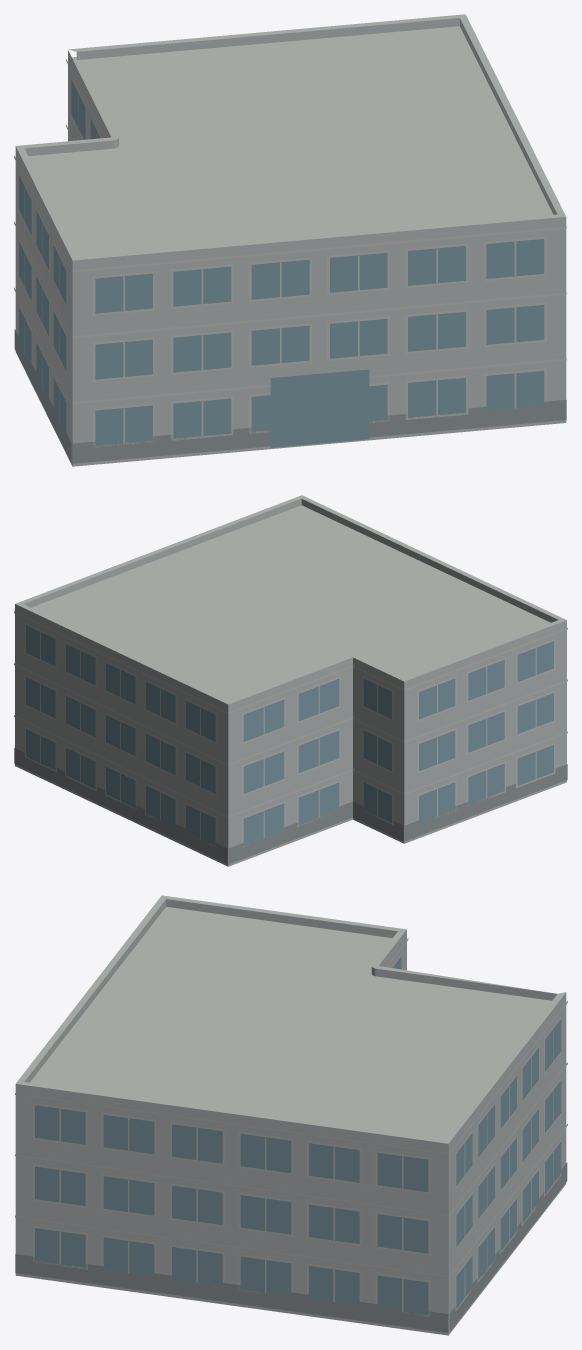
The model's file is public-37439f4a-5daf-46bc-bee4-dda10c406bc0.glb.
3 renders of one model, top to bottom at view 1: azimuth 30°, elevation 25°; view 2: azimuth 150°, elevation 25°; view 3: azimuth 270°, elevation 25°, orthographic. The views are drawn at different scales.
Visible parts, largest first — view 1: public-37439f4a-5daf-46bc-bee4-dda10c406bc0; view 2: public-37439f4a-5daf-46bc-bee4-dda10c406bc0; view 3: public-37439f4a-5daf-46bc-bee4-dda10c406bc0.
Part boxes in pixels (x1,y1,x2,y2): public-37439f4a-5daf-46bc-bee4-dda10c406bc0: [14, 14, 566, 466]; public-37439f4a-5daf-46bc-bee4-dda10c406bc0: [14, 495, 567, 866]; public-37439f4a-5daf-46bc-bee4-dda10c406bc0: [15, 895, 567, 1335].
Size of the model in its own units: 25.55 by 9.15 by 23.96.
